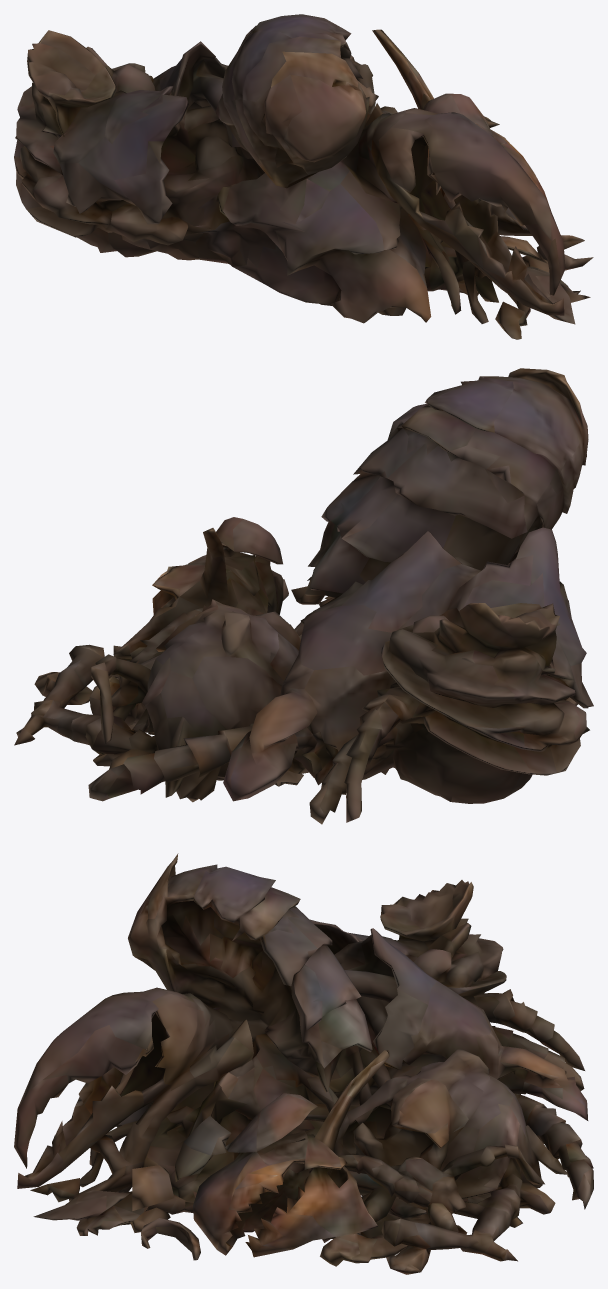
File: shed-chitin-pile.glb
3 views of the same model, one above another, from view 1: azimuth 30°, elevation 25°; view 2: azimuth 150°, elevation 25°; view 3: azimuth 270°, elevation 25° (orthographic). The views are drawn at different scales.
Visible parts, largest first — view 1: tripo_node_e39d26f9-15d0-40ef-b0a5-67e77802631b; view 2: tripo_node_e39d26f9-15d0-40ef-b0a5-67e77802631b; view 3: tripo_node_e39d26f9-15d0-40ef-b0a5-67e77802631b.
Part boxes in pixels (x1=…): tripo_node_e39d26f9-15d0-40ef-b0a5-67e77802631b: x1=14, y1=14, x2=593, y2=339; tripo_node_e39d26f9-15d0-40ef-b0a5-67e77802631b: x1=14, y1=368, x2=593, y2=824; tripo_node_e39d26f9-15d0-40ef-b0a5-67e77802631b: x1=14, y1=853, x2=593, y2=1274.
Bounding box in the file's own units: 0.913 × 0.5118 × 1.
1 material, 1 textured.
